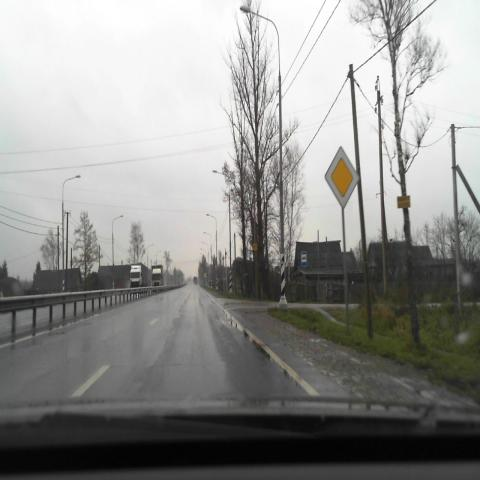2_1: (325, 146, 359, 208)
